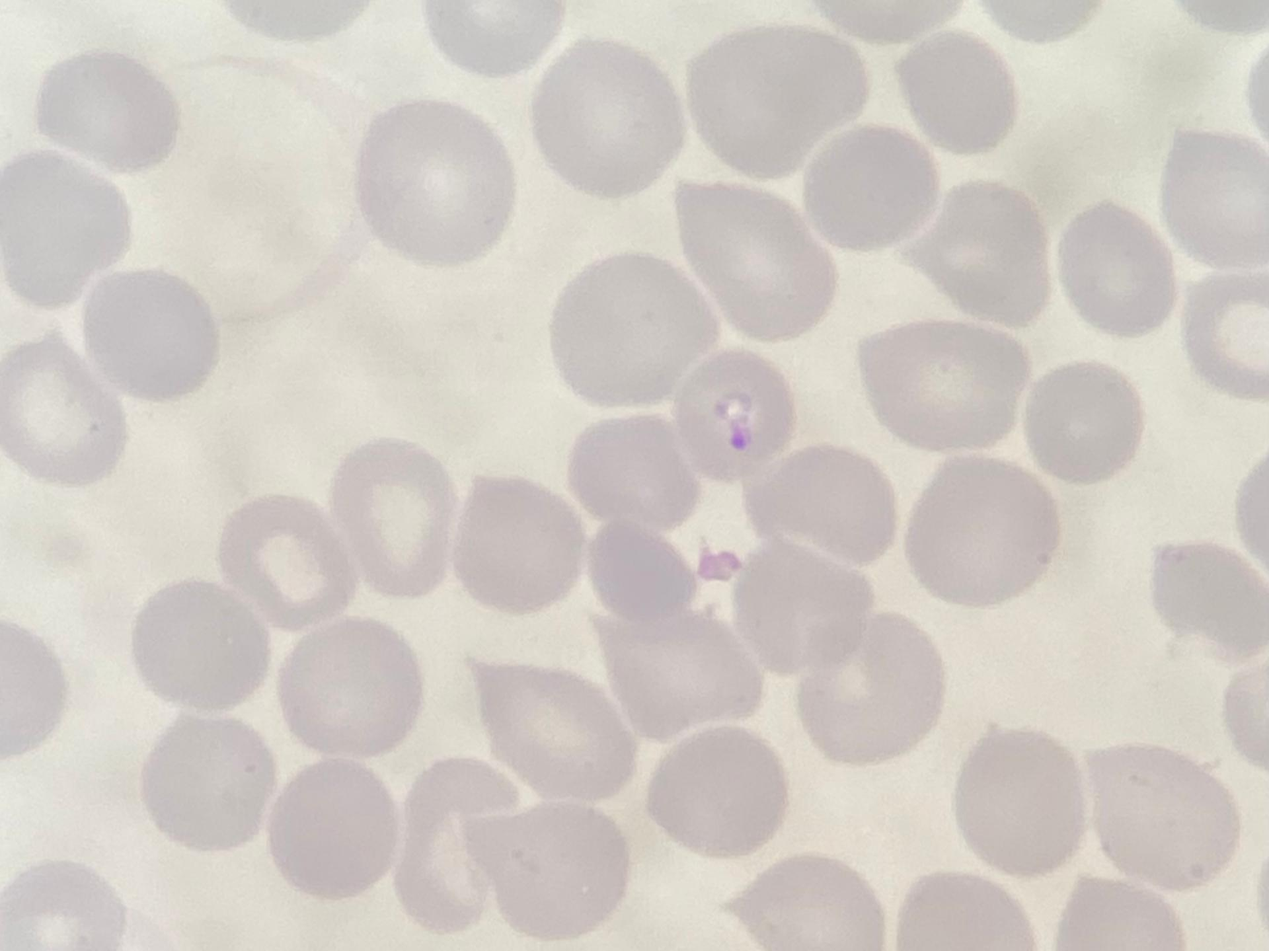Infected: (672, 349, 800, 482)
Uninfected: (686, 24, 865, 175), (673, 180, 838, 343), (356, 100, 516, 260), (548, 252, 712, 402), (529, 40, 684, 196), (469, 657, 638, 798), (859, 318, 1034, 450), (461, 802, 629, 938), (904, 458, 1058, 606), (596, 605, 762, 740), (1080, 743, 1233, 887), (798, 617, 948, 763), (907, 182, 1054, 328), (330, 439, 459, 598), (730, 536, 876, 674), (1, 153, 128, 309), (954, 728, 1085, 878), (277, 619, 421, 755), (130, 578, 276, 710), (0, 339, 126, 488), (139, 716, 278, 851), (266, 759, 400, 899), (215, 496, 352, 632), (451, 475, 585, 613), (646, 727, 787, 858), (747, 441, 894, 564), (82, 266, 216, 399), (34, 49, 174, 171), (804, 125, 937, 250), (1057, 199, 1177, 334), (564, 415, 701, 533), (896, 31, 1019, 159), (725, 855, 885, 950), (1024, 359, 1144, 483), (1160, 130, 1269, 266), (396, 757, 520, 872), (1152, 539, 1269, 659), (585, 512, 701, 624), (395, 813, 498, 934), (1, 862, 122, 950), (1182, 269, 1268, 392), (896, 872, 1032, 946)
